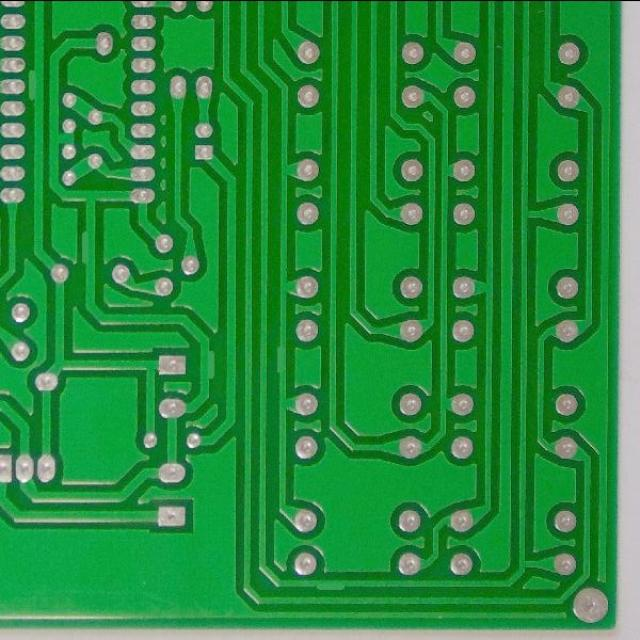Spur: (77, 226, 99, 270), (195, 346, 219, 384), (25, 66, 48, 105), (272, 339, 291, 378), (312, 575, 351, 593)
